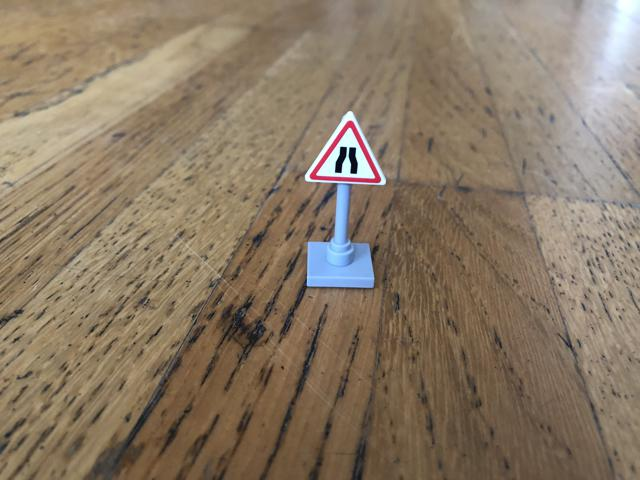verengte fahrbahn: (306, 109, 386, 187)
